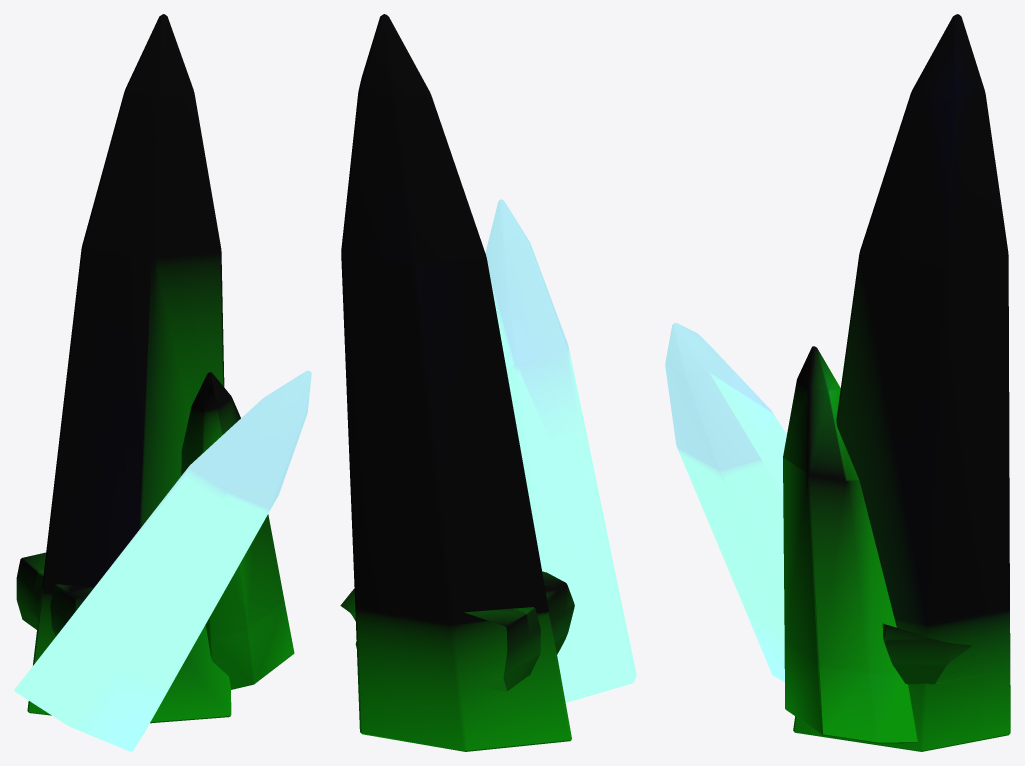
File: hero_ice_spire.glb
3 renders of one model, left to right at view 1: azimuth 30°, elevation 25°; view 2: azimuth 150°, elevation 25°; view 3: azimuth 270°, elevation 25°, orthographic. The views are drawn at different scales.
Visible parts, largest first — view 1: HeroIceSpire; view 2: HeroIceSpire; view 3: HeroIceSpire.
Part boxes in pixels (x1=…): HeroIceSpire: x1=14, y1=14, x2=311, y2=751; HeroIceSpire: x1=340, y1=14, x2=636, y2=751; HeroIceSpire: x1=665, y1=14, x2=1010, y2=751.
Size of the model in its own units: 1.85 by 4.48 by 1.91.
